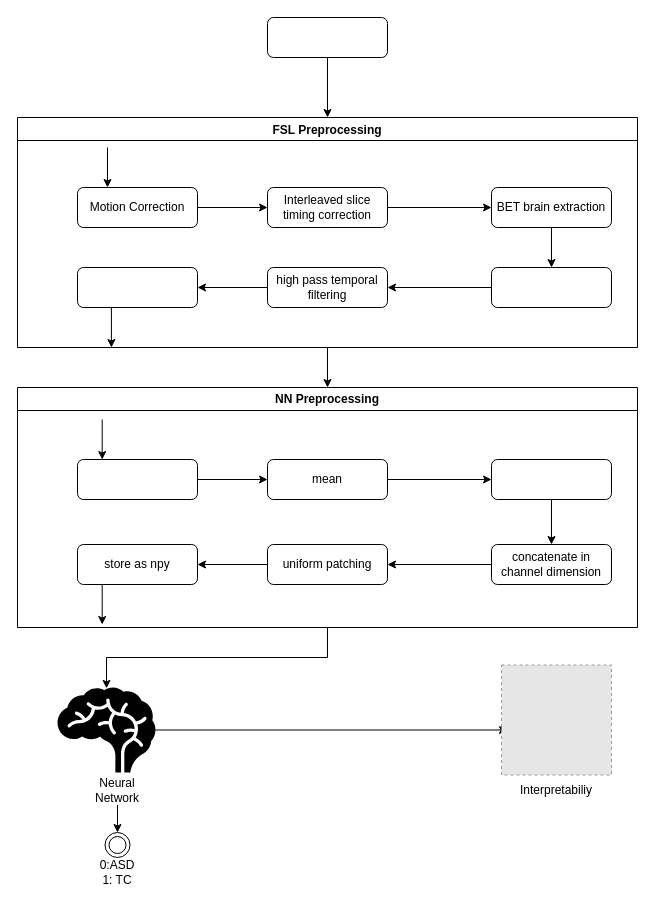
Image size: 655x905. Some labels were removed from this diagram. Grey dashed boxes stand in for pictures. Each missing label, with the centre of its shape:
register to MNI152: point 137,287
rest.nii.gz: point 327,37
spatial smooting: point 551,287
standard deviation: point 551,479
temporal slice: point 137,479
